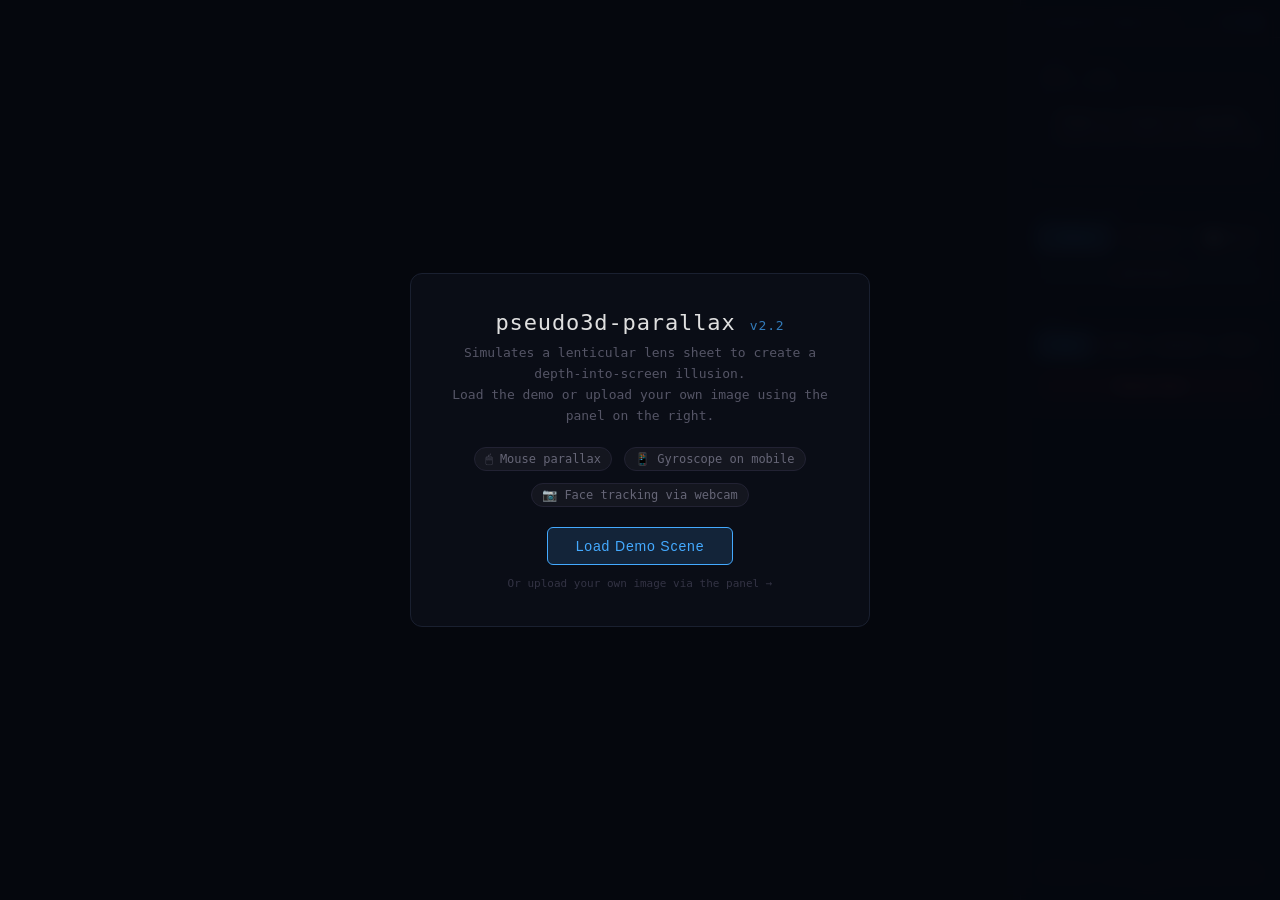
Test: App — overlay behavior › shows error feedback when generateAllMaps rejects
The width and height of the screenshot is (1280, 900).
close overlay first
Click the button "Load Demo Scene" at (640, 546), box [547, 527, 733, 565]
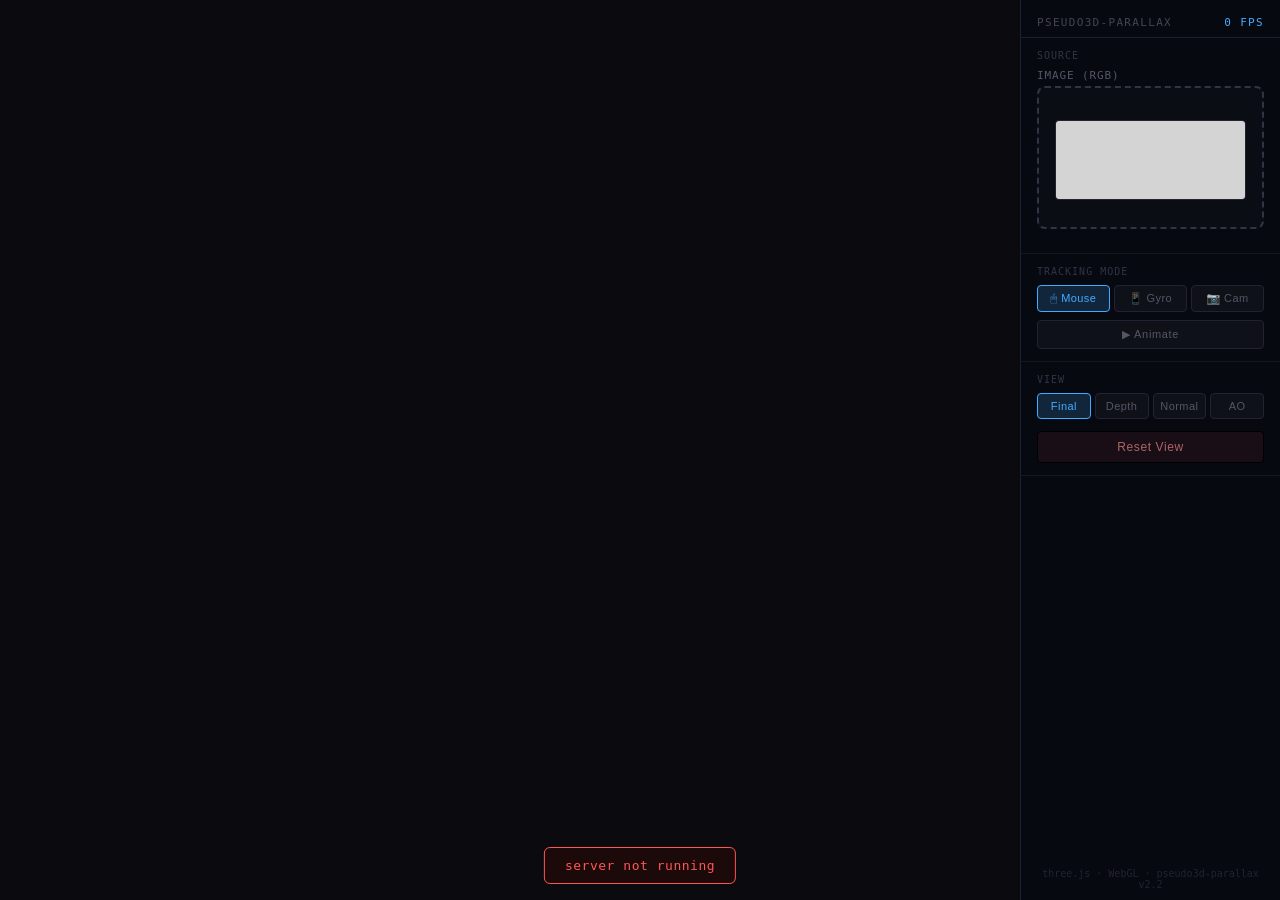
expect the text "server not running" is shown: met, box [544, 847, 736, 884]
